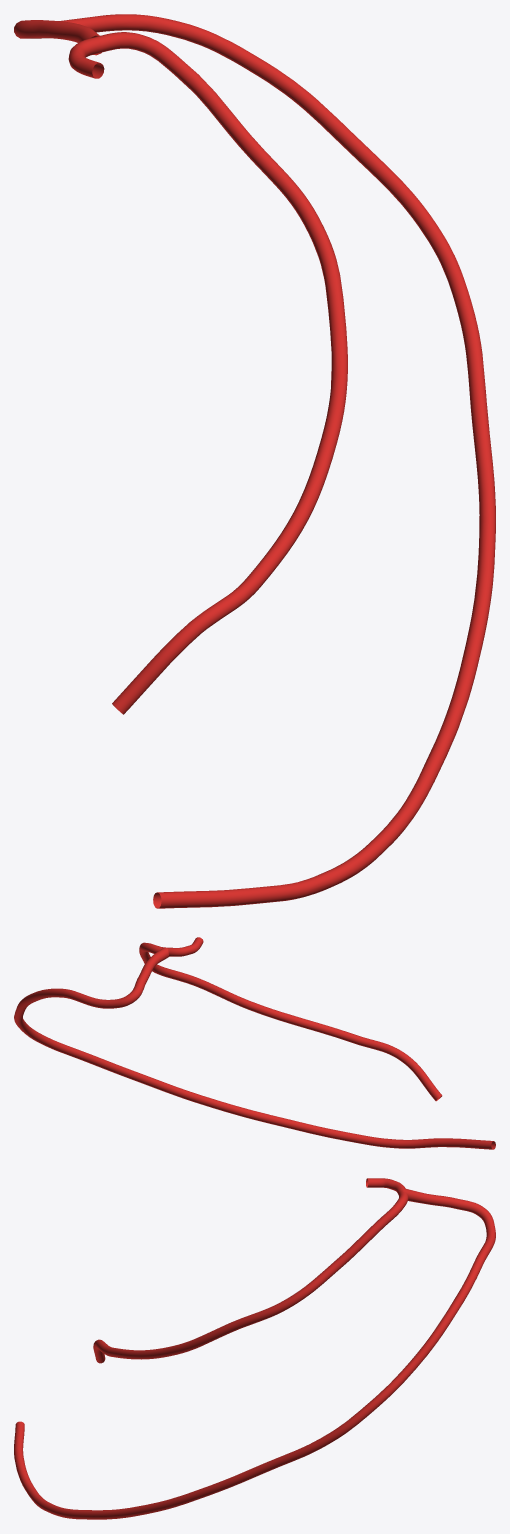
Rendered from circulatorio-supreme-intercostal-artery-l.glb.
3 renders of one model, top to bottom at view 1: azimuth 30°, elevation 25°; view 2: azimuth 150°, elevation 25°; view 3: azimuth 270°, elevation 25°, orthographic. The views are drawn at different scales.
Visible parts, largest first — view 1: Second posterior intercostal artery.l, First posterior intercostal artery.l, Supreme intercostal artery.l; view 2: Second posterior intercostal artery.l, First posterior intercostal artery.l, Supreme intercostal artery.l; view 3: Second posterior intercostal artery.l, First posterior intercostal artery.l, Supreme intercostal artery.l.
Boxes of the visible parts, x1,y1,x2,y2 form: Second posterior intercostal artery.l: (14, 14, 495, 908); First posterior intercostal artery.l: (94, 32, 347, 714); Supreme intercostal artery.l: (68, 37, 104, 78); Second posterior intercostal artery.l: (14, 947, 495, 1149); First posterior intercostal artery.l: (139, 942, 442, 1101); Supreme intercostal artery.l: (167, 937, 203, 956); Second posterior intercostal artery.l: (14, 1188, 495, 1519); First posterior intercostal artery.l: (93, 1190, 408, 1363); Supreme intercostal artery.l: (366, 1178, 405, 1194).
Size of the model in its own units: 0.0822 by 0.0791 by 0.1024.
